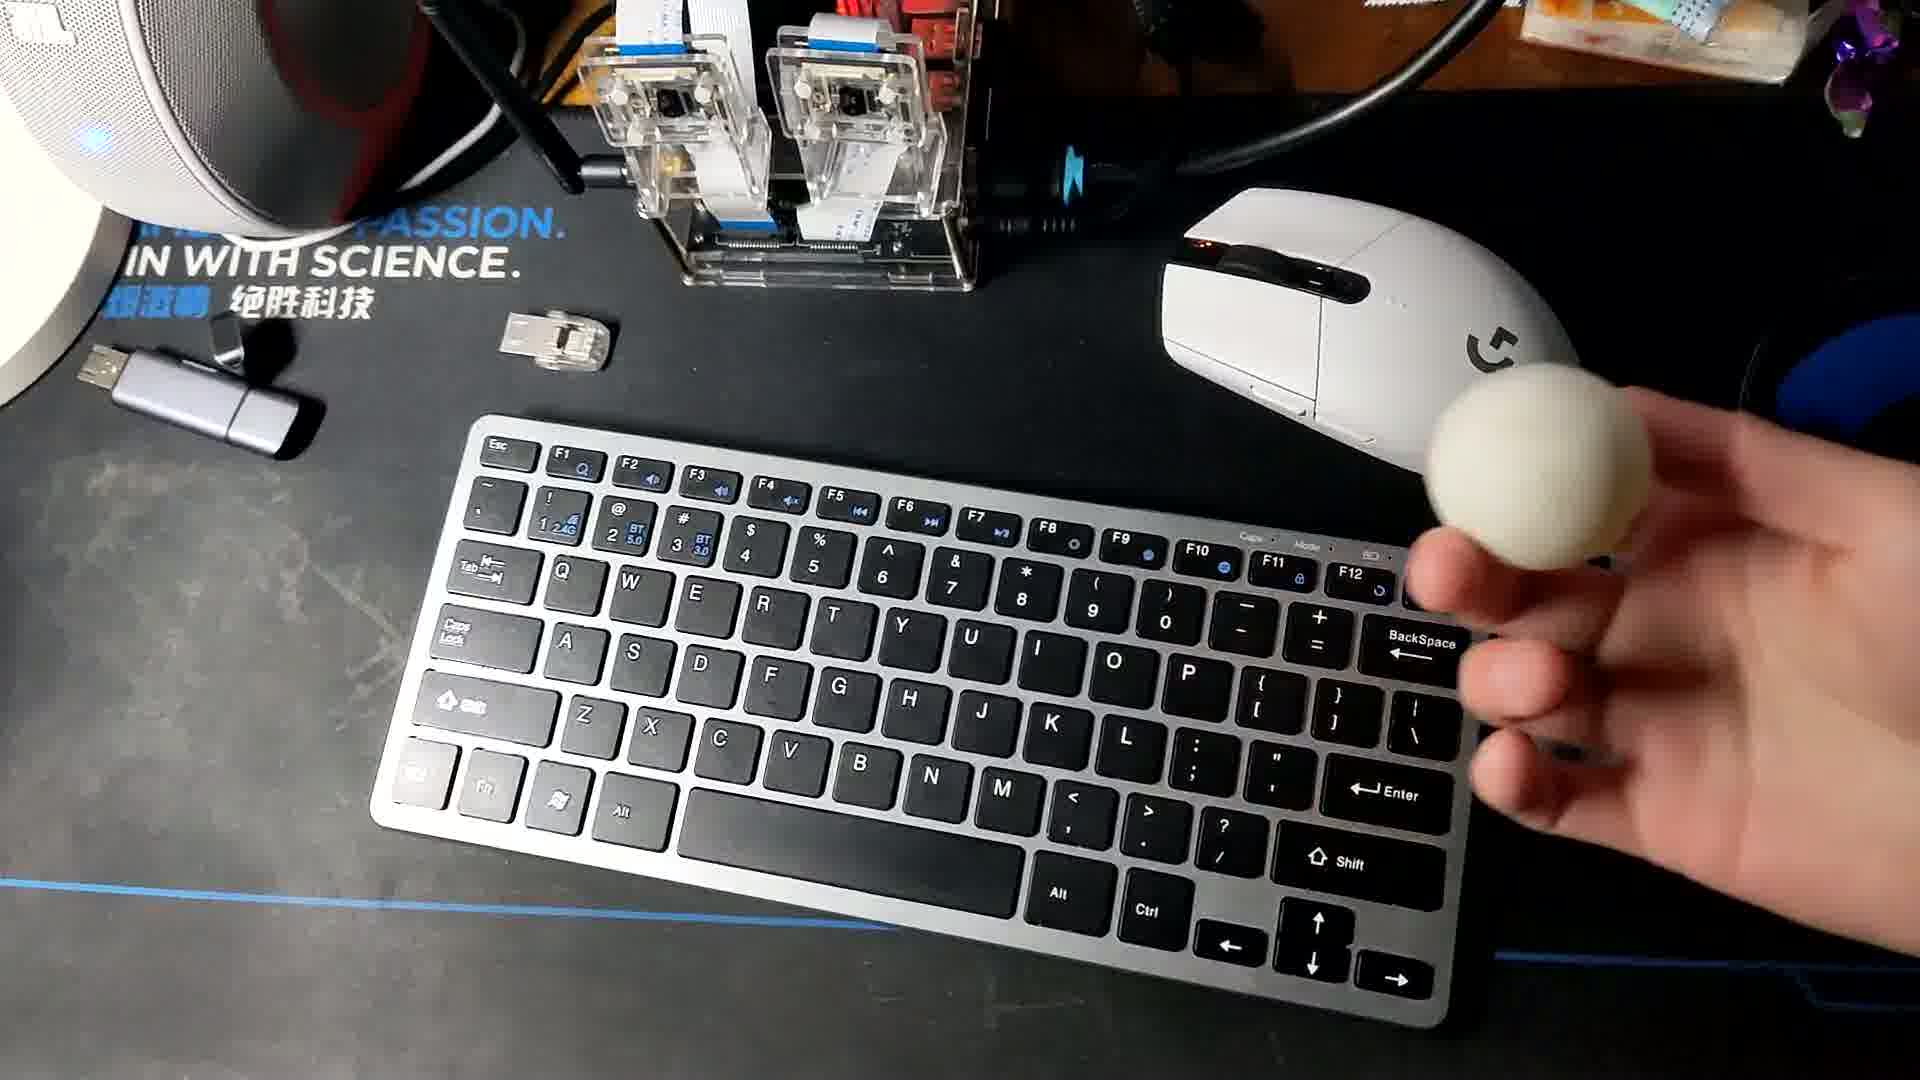Ball: (1424, 365, 1643, 578)
